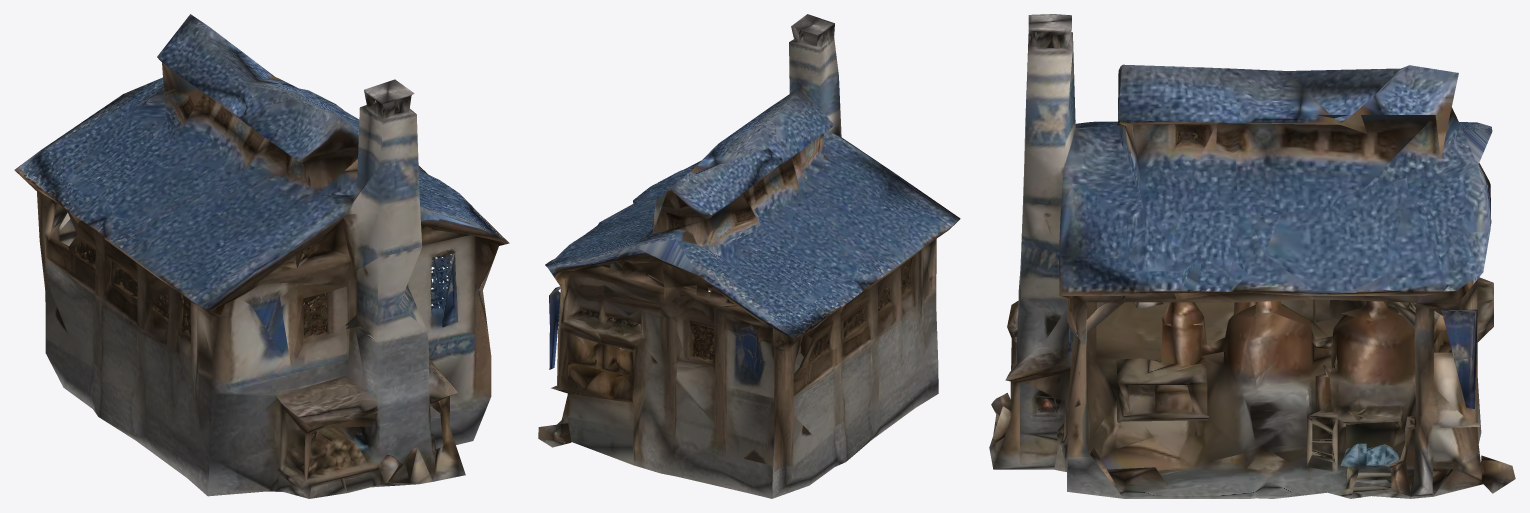
Rendered from brewhouse.glb.
The picture shows the model from 3 angles, left to right: view 1: azimuth 30°, elevation 25°; view 2: azimuth 150°, elevation 25°; view 3: azimuth 270°, elevation 25°; orthographic projection. The views are drawn at different scales.
Visible parts, largest first — view 1: tripo_node_cdf75111-38ca-4d23-abb7-b134872eb7ff; view 2: tripo_node_cdf75111-38ca-4d23-abb7-b134872eb7ff; view 3: tripo_node_cdf75111-38ca-4d23-abb7-b134872eb7ff.
Boxes of the visible parts, left/top/right/bottom form: tripo_node_cdf75111-38ca-4d23-abb7-b134872eb7ff: left=14, top=14, right=509, bottom=498; tripo_node_cdf75111-38ca-4d23-abb7-b134872eb7ff: left=538, top=14, right=960, bottom=498; tripo_node_cdf75111-38ca-4d23-abb7-b134872eb7ff: left=989, top=14, right=1515, bottom=498.
Size of the model in its own units: 0.727 by 0.8433 by 0.9543.
Materials: 1 (1 with a texture image).
